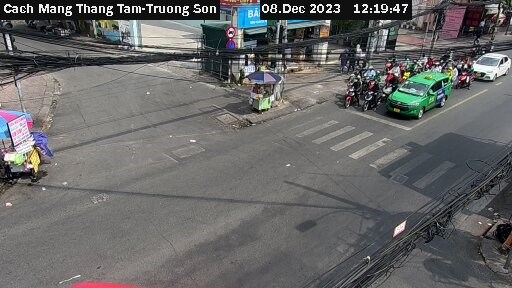car: (387, 72, 459, 120), (471, 51, 511, 80)
motorbike: (338, 79, 364, 103), (362, 82, 385, 109)
